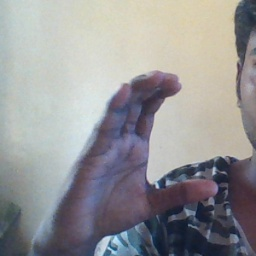C: (100, 64, 225, 209)
